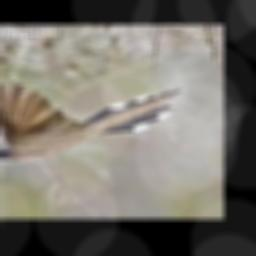Cuckoo: (0, 83, 181, 163)
